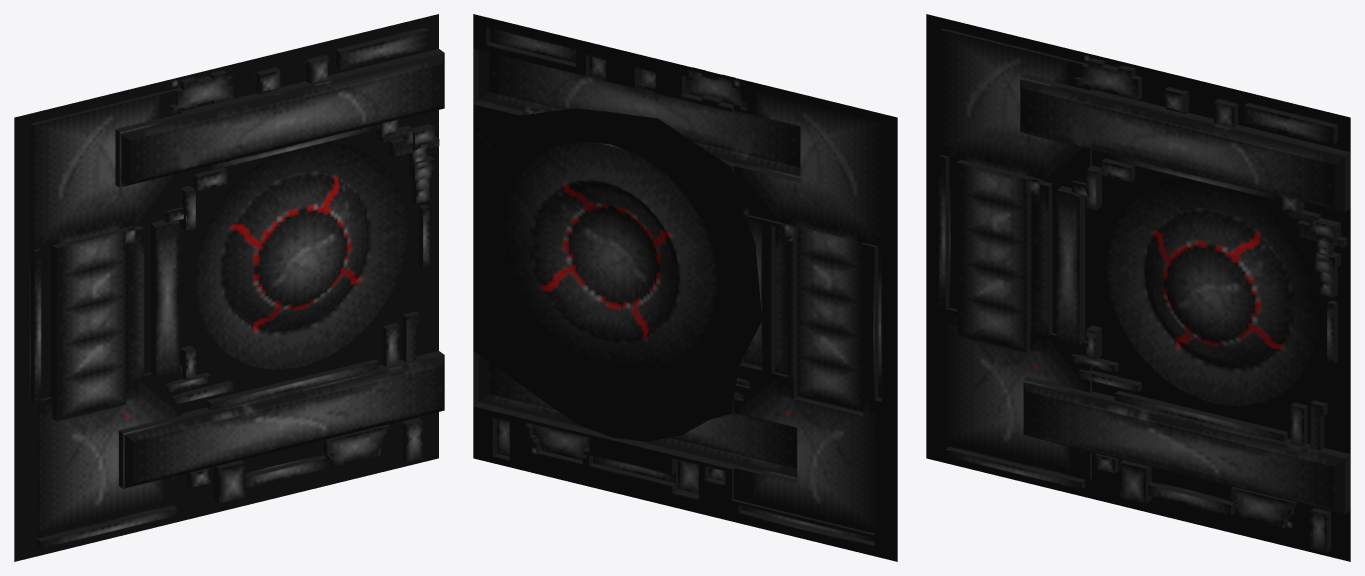
File: reac6_3.fbx
3 renders of one model, left to right at view 1: azimuth 30°, elevation 25°; view 2: azimuth 150°, elevation 25°; view 3: azimuth 330°, elevation 25°, orthographic.
Parts seen in each view (by area): view 1: reac6_3_mesh; view 2: reac6_3_mesh; view 3: reac6_3_mesh.
Boxes of the visible parts, box(x1,y1,x2,y2) form: reac6_3_mesh: box(14, 14, 444, 561); reac6_3_mesh: box(473, 14, 897, 561); reac6_3_mesh: box(926, 14, 1350, 561).
Bounding box in the file's own units: 256 × 256 × 16.
